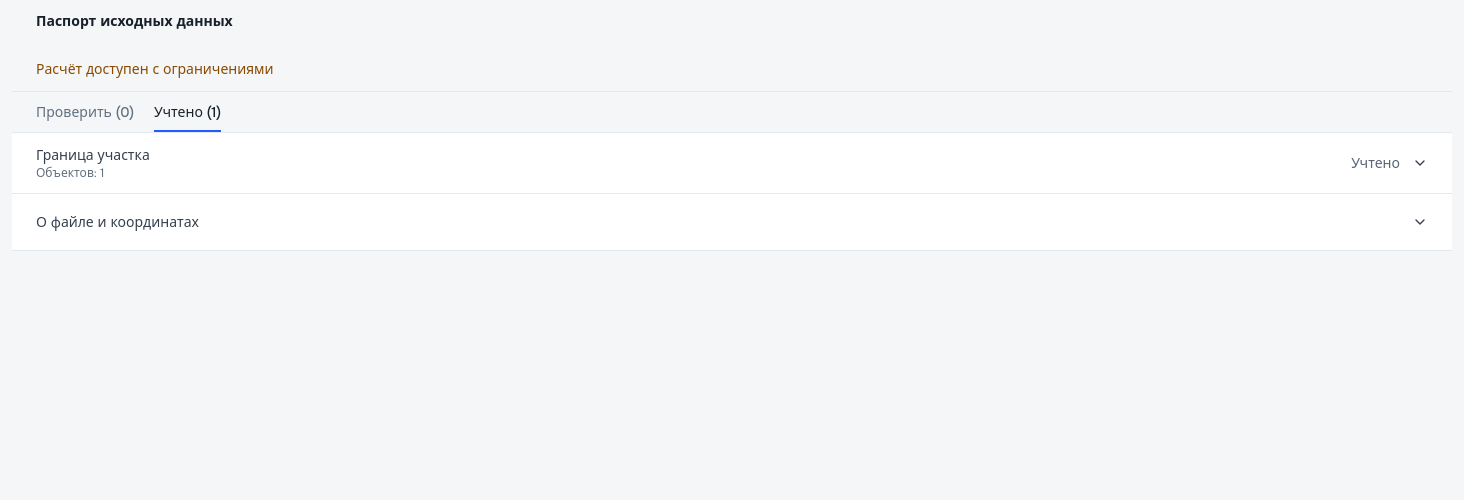
Test: DataPassportPanel › does not infer zero losses or zero layers when optional lists are omitted
Step 1. Click the button "Граница участка Объектов: 1 Учтено" → (93, 155), box [12,133,1452,193]
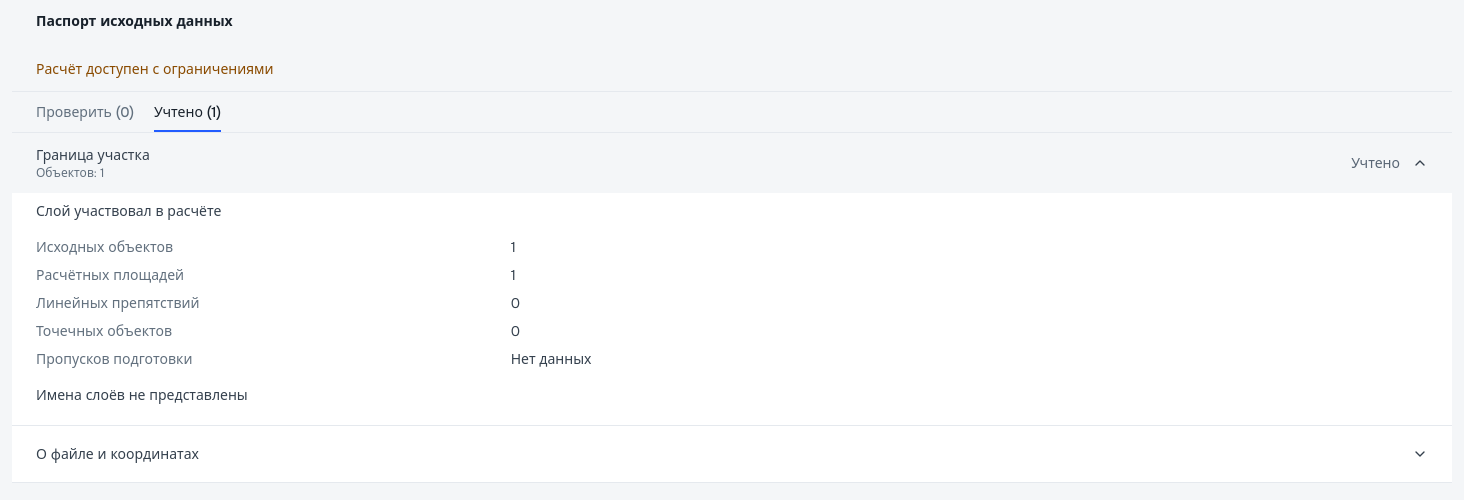
Expected: the text "Нет данных" is shown, [511,350,592,368]
Expected: the text "Имена слоёв не представлены" is shown, [36,386,248,404]
